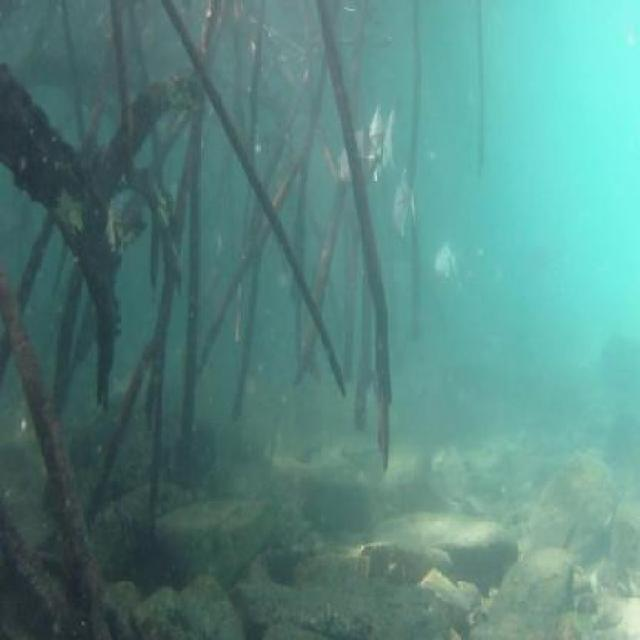Caranx_sexfasciatus_juvenile: (332, 114, 386, 198), (364, 93, 402, 178), (390, 174, 424, 246), (434, 231, 468, 292)
